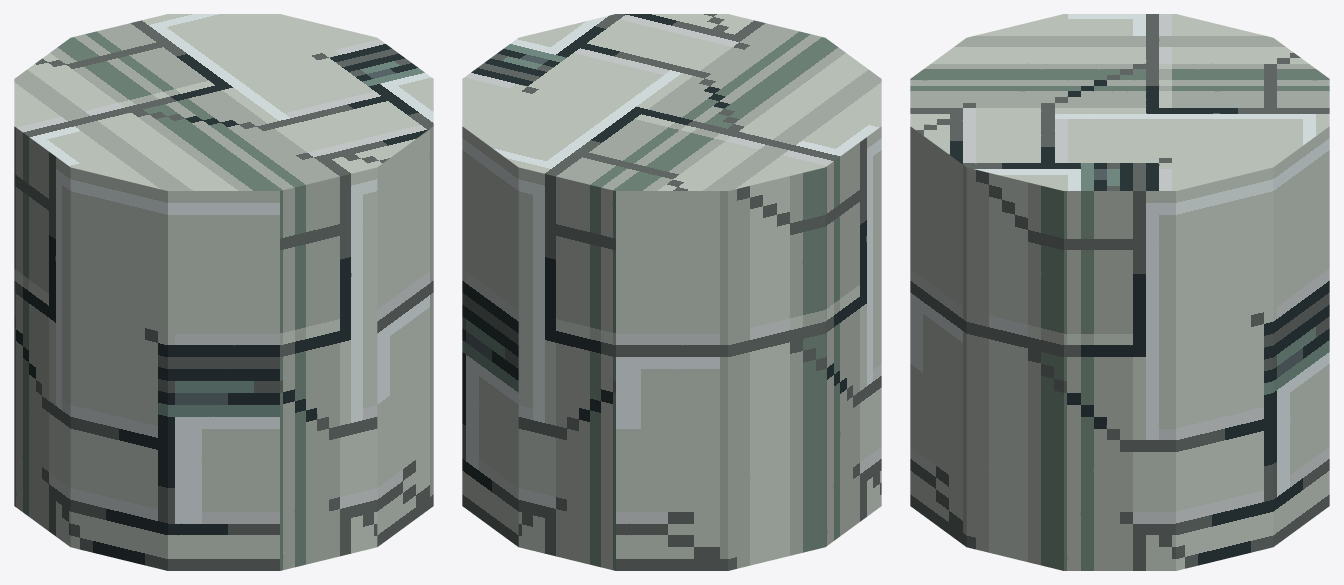
The model's file is cyl.obj.
3 views of the same model, side by side, from view 1: azimuth 30°, elevation 25°; view 2: azimuth 150°, elevation 25°; view 3: azimuth 270°, elevation 25° (orthographic).
Parts seen in each view (by area): view 1: cylinder; view 2: cylinder; view 3: cylinder.
Boxes of the visible parts, x1,y1,x2,y2 form: cylinder: (14, 14, 433, 570); cylinder: (462, 14, 881, 570); cylinder: (910, 14, 1329, 570).
Bounding box in the file's own units: 2 × 2 × 2.
1 material, 1 textured.
